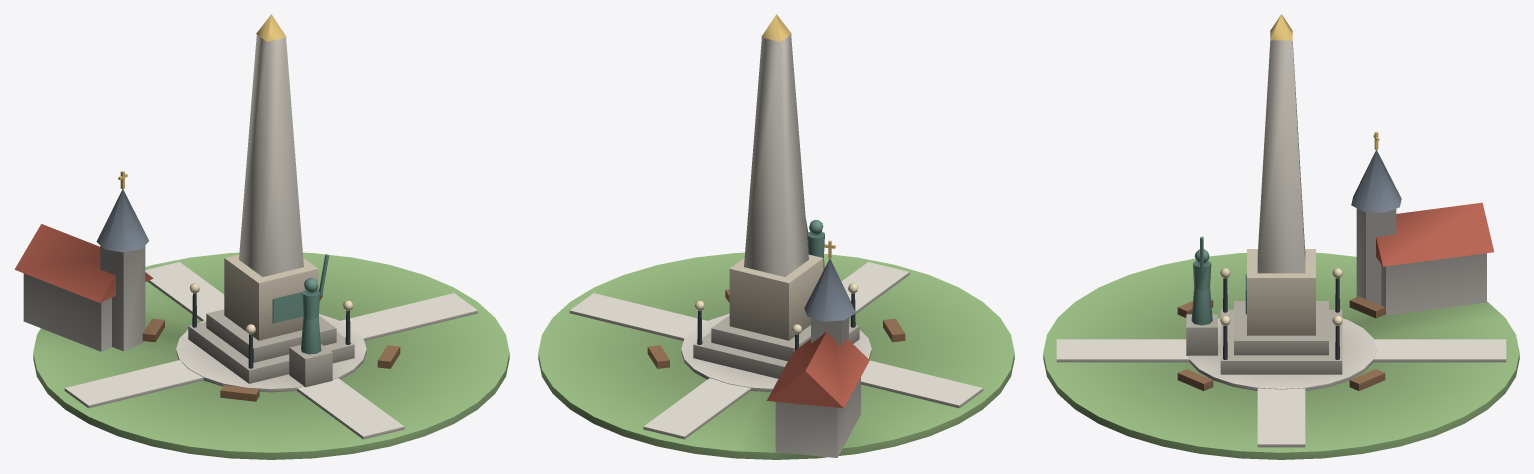
Rendered from urziceni.glb.
3 renders of one model, left to right at view 1: azimuth 30°, elevation 25°; view 2: azimuth 150°, elevation 25°; view 3: azimuth 270°, elevation 25°, orthographic.
Visible parts, largest first — view 1: urziceni_grass, urziceni_stoneLight, urziceni_plaster, urziceni_stoneGray, urziceni_roofRed, urziceni_stone, urziceni_bronze, urziceni_roofSlate, urziceni_wood, urziceni_gold, urziceni_iron; view 2: urziceni_grass, urziceni_stoneLight, urziceni_stone, urziceni_roofRed, urziceni_plaster, urziceni_stoneGray, urziceni_roofSlate, urziceni_wood, urziceni_bronze, urziceni_gold; view 3: urziceni_grass, urziceni_stoneLight, urziceni_plaster, urziceni_stoneGray, urziceni_roofRed, urziceni_stone, urziceni_roofSlate, urziceni_wood, urziceni_bronze, urziceni_iron, urziceni_gold.
Part boxes in pixels (left/top/right/bottom): urziceni_grass: left=33, top=252, right=509, bottom=459; urziceni_stoneLight: left=64, top=34, right=477, bottom=439; urziceni_plaster: left=23, top=245, right=145, bottom=351; urziceni_stoneGray: left=188, top=309, right=354, bottom=387; urziceni_roofRed: left=14, top=224, right=153, bottom=302; urziceni_stone: left=224, top=254, right=318, bottom=340; urziceni_bronze: left=272, top=254, right=328, bottom=354; urziceni_roofSlate: left=96, top=189, right=148, bottom=252; urziceni_wood: left=142, top=289, right=400, bottom=401; urziceni_gold: left=118, top=14, right=286, bottom=189; urziceni_iron: left=192, top=293, right=350, bottom=368; urziceni_grass: left=538, top=252, right=1014, bottom=459; urziceni_stoneLight: left=569, top=34, right=983, bottom=439; urziceni_stone: left=729, top=254, right=823, bottom=340; urziceni_roofRed: left=767, top=332, right=869, bottom=408; urziceni_plaster: left=775, top=317, right=860, bottom=457; urziceni_stoneGray: left=693, top=315, right=859, bottom=378; urziceni_roofSlate: left=804, top=259, right=855, bottom=321; urziceni_wood: left=647, top=289, right=905, bottom=368; urziceni_bronze: left=805, top=218, right=824, bottom=270; urziceni_gold: left=761, top=14, right=835, bottom=258; urziceni_grass: left=1043, top=252, right=1519, bottom=459; urziceni_stoneLight: left=1056, top=40, right=1506, bottom=447; urziceni_plaster: left=1356, top=208, right=1486, bottom=315; urziceni_stoneGray: left=1186, top=301, right=1342, bottom=374; urziceni_roofRed: left=1376, top=202, right=1494, bottom=266; urziceni_stone: left=1247, top=249, right=1315, bottom=335; urziceni_roofSlate: left=1351, top=150, right=1401, bottom=212; urziceni_wood: left=1177, top=296, right=1385, bottom=390; urziceni_bronze: left=1191, top=236, right=1246, bottom=325; urziceni_iron: left=1223, top=278, right=1339, bottom=359; urziceni_gold: left=1270, top=14, right=1379, bottom=149.
Size of the model in its own units: 1.8 by 1.44 by 1.8.
